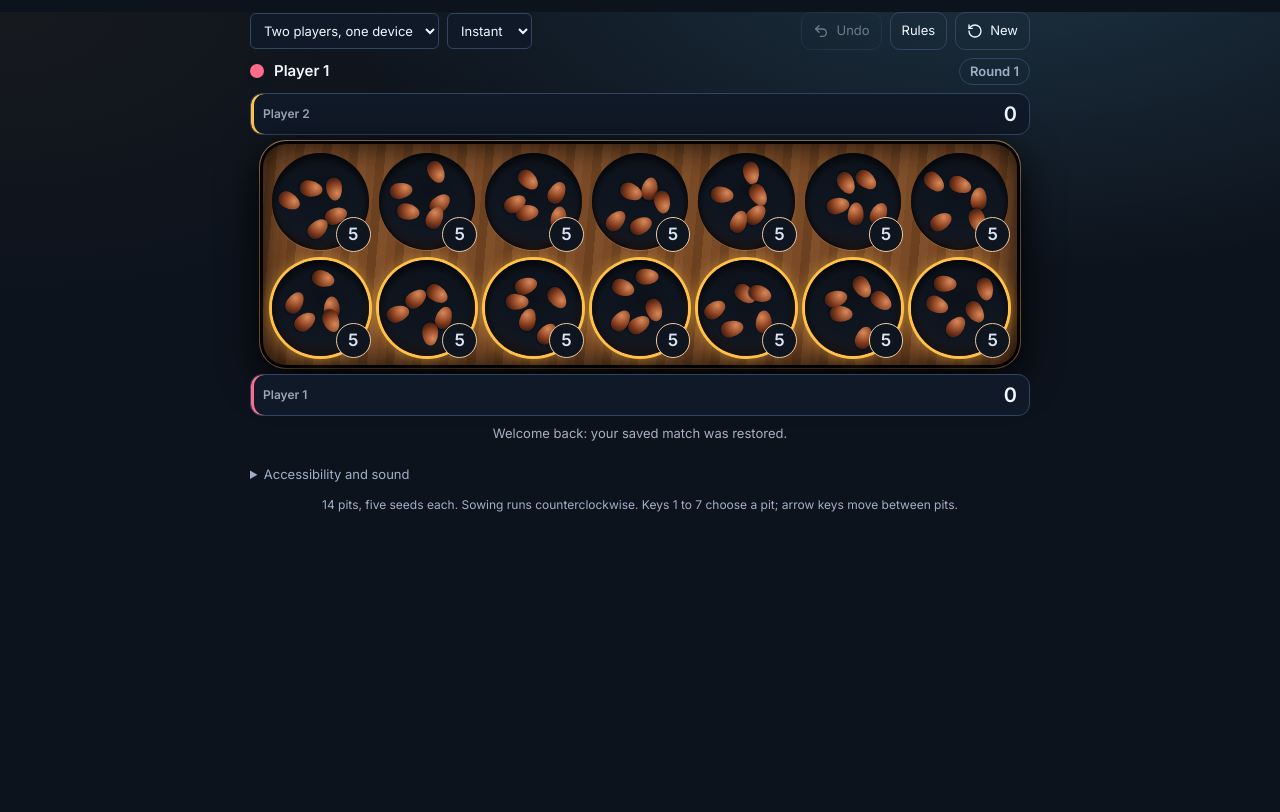
Test: Pallanguzhi › the tutorial only moves on after the lesson move, and uses the real engine
Select "Tutorial" in the dropdown named "Mode" at (344, 31), box x1=250 y1=13 x2=439 y2=49
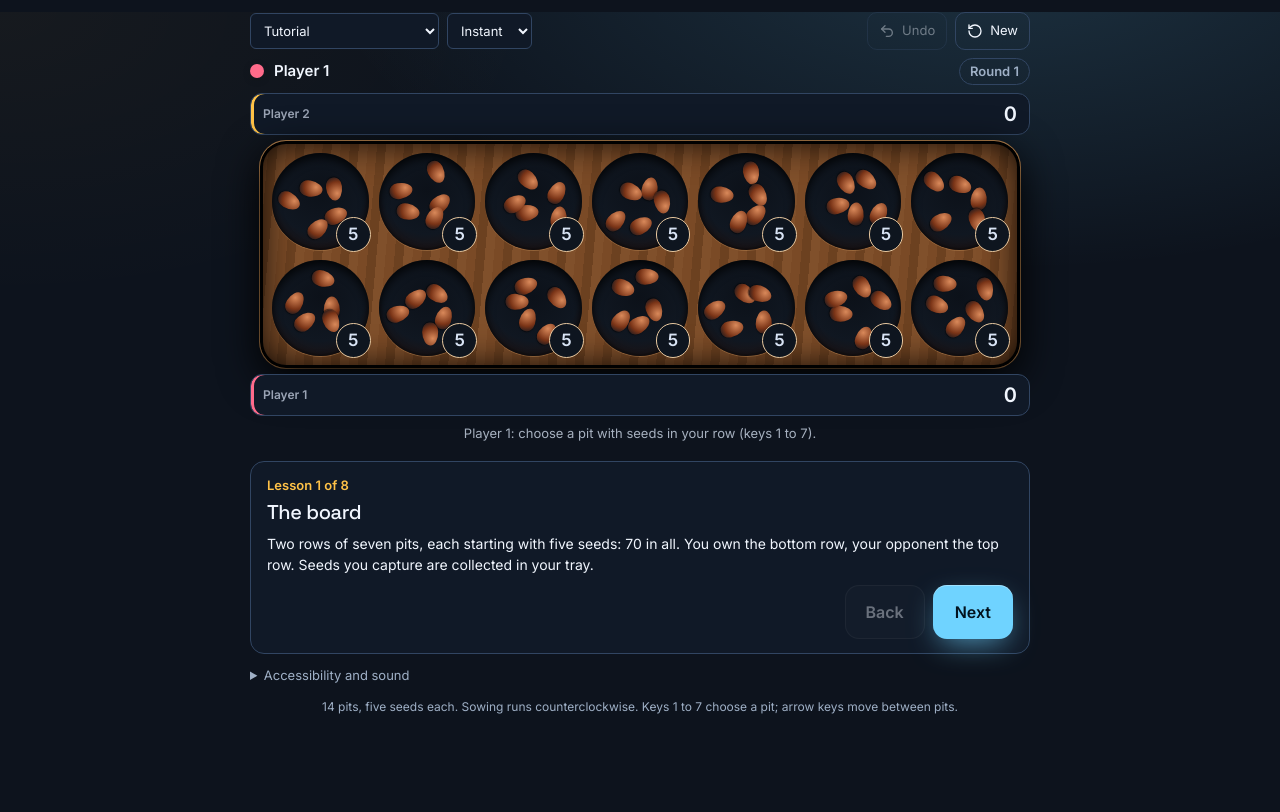
Check: the text "Lesson 1 of 8" is shown, box x1=267 y1=477 x2=349 y2=493
Click the button "Next" at (973, 612), box x1=933 y1=585 x2=1013 y2=639
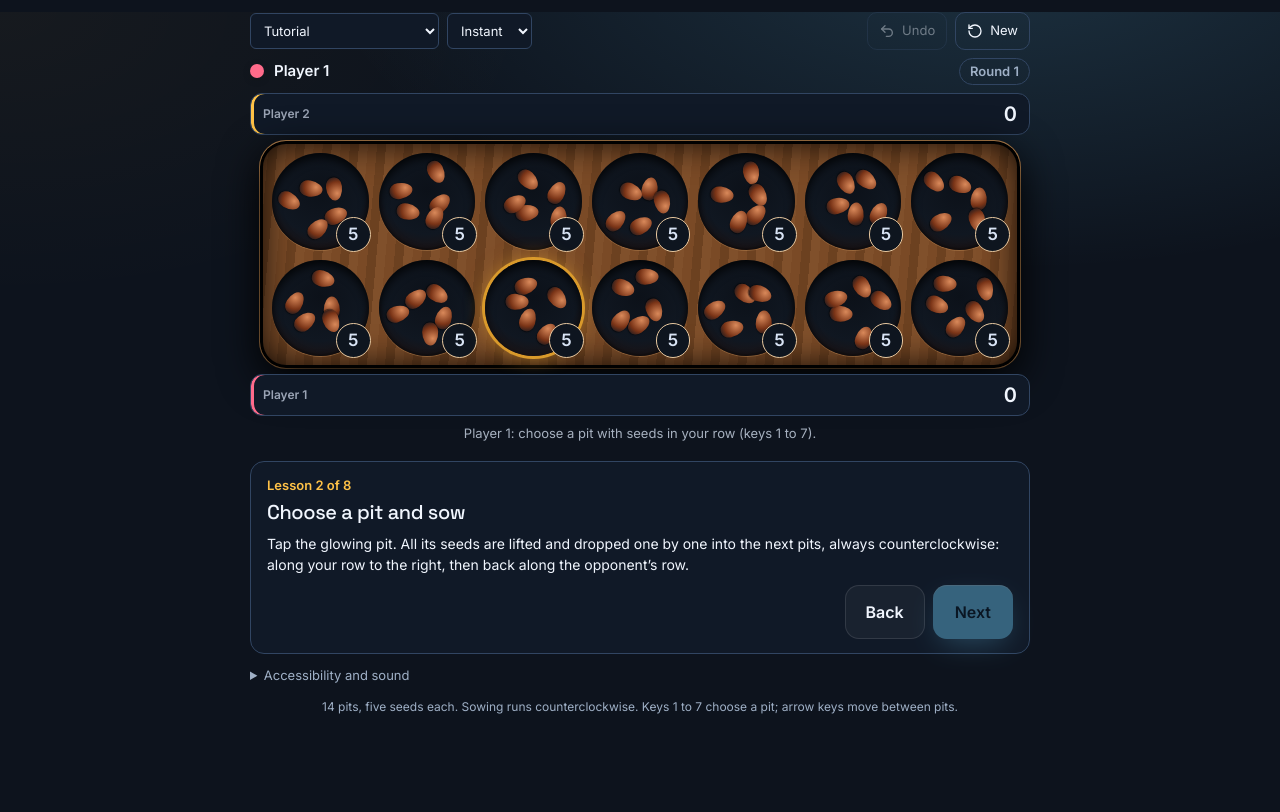
Check: the button "Next" is disabled, box x1=933 y1=585 x2=1013 y2=639
Click the 8th button "5" at (320, 308), box x1=272 y1=260 x2=369 y2=356
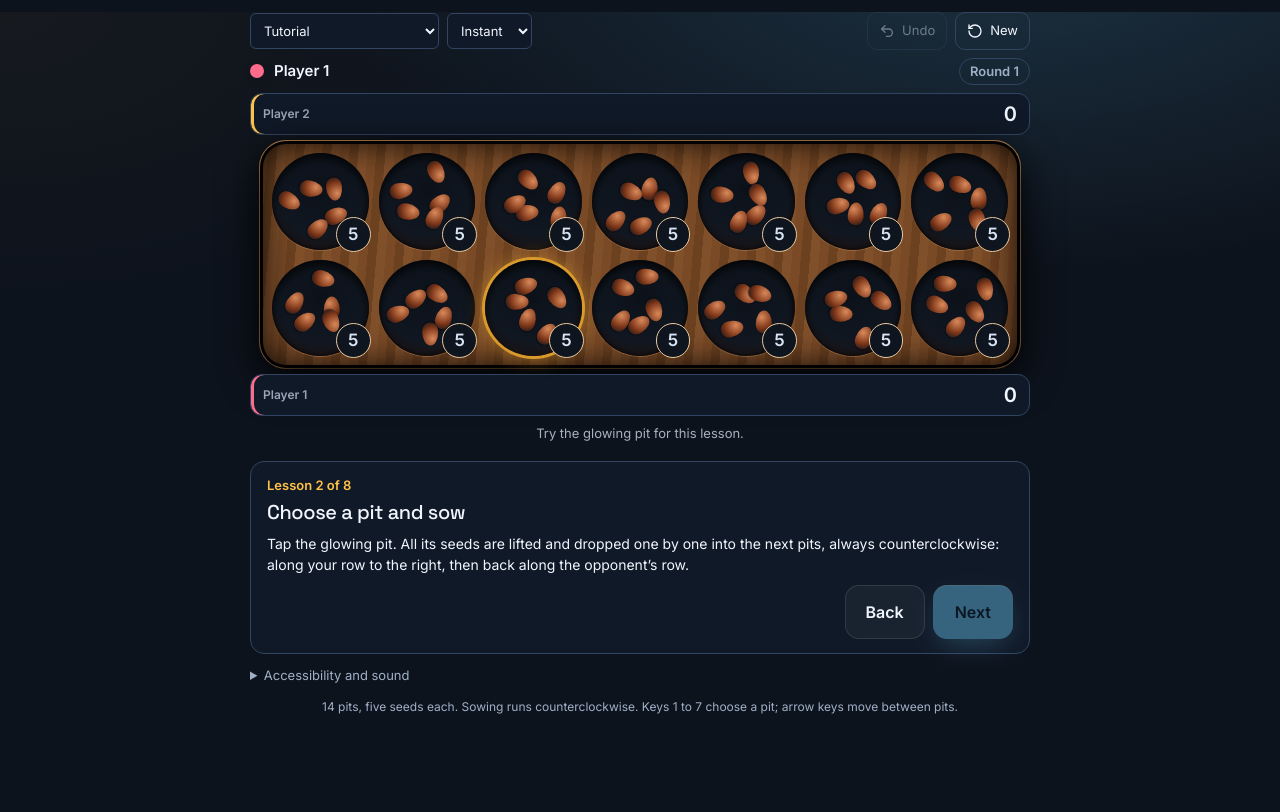
Check: the button "Next" is disabled, box x1=933 y1=585 x2=1013 y2=639
Click the 10th button "5" at (534, 308), box x1=485 y1=260 x2=582 y2=356
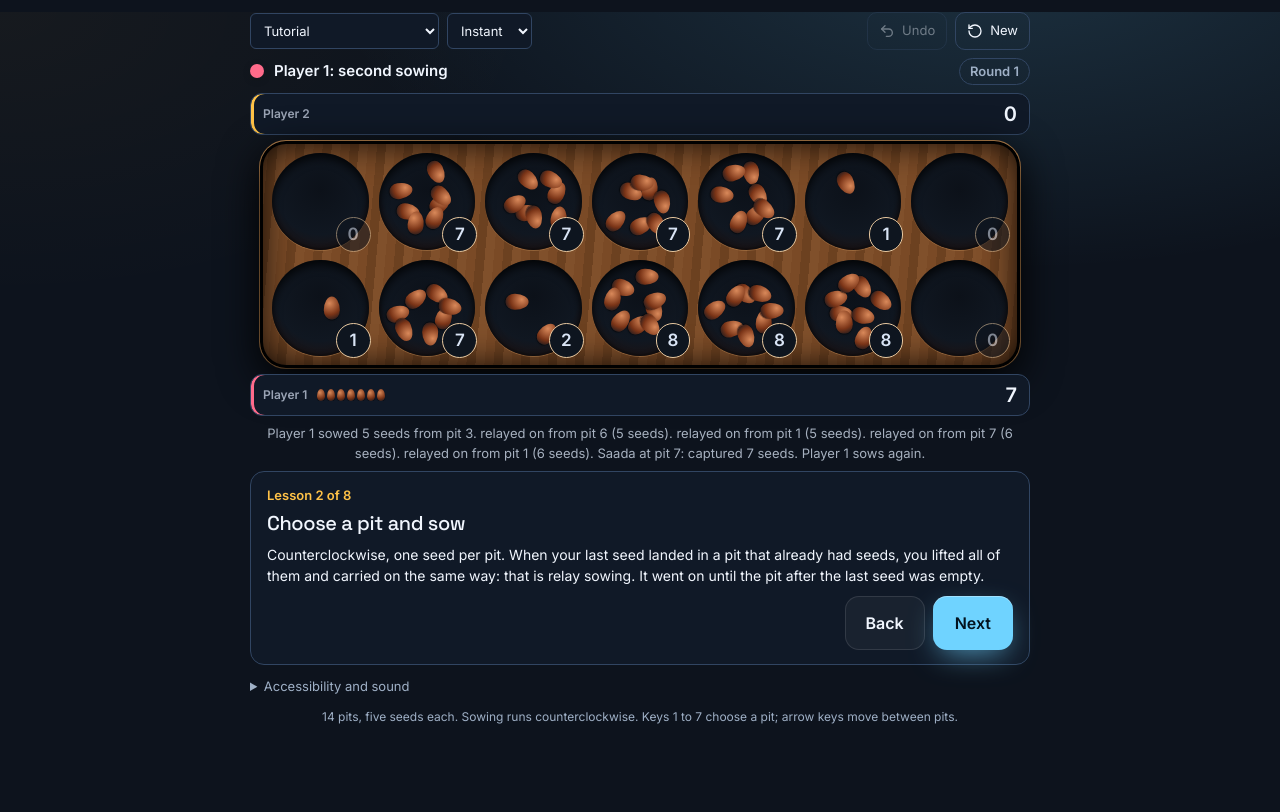
Check: the button "Next" is enabled, box x1=933 y1=596 x2=1013 y2=650
